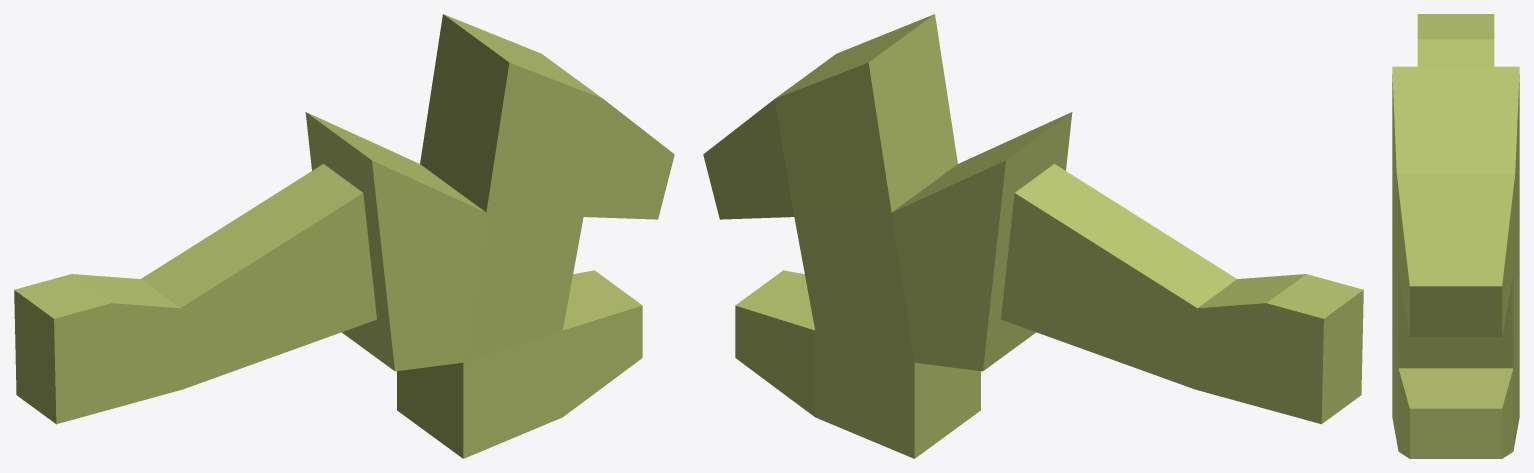
Rendered from Key Asset.fbx.
3 views of the same model, side by side, from view 1: azimuth 30°, elevation 25°; view 2: azimuth 150°, elevation 25°; view 3: azimuth 270°, elevation 25° (orthographic). The views are drawn at different scales.
Visible parts, largest first — view 1: Cube; view 2: Cube; view 3: Cube.
Boxes of the visible parts, bbox=[...] form: Cube: bbox=[14, 14, 674, 458]; Cube: bbox=[703, 14, 1363, 458]; Cube: bbox=[1392, 14, 1519, 458].
Size of the model in its own units: 0.5361 by 0.32 by 0.1.
